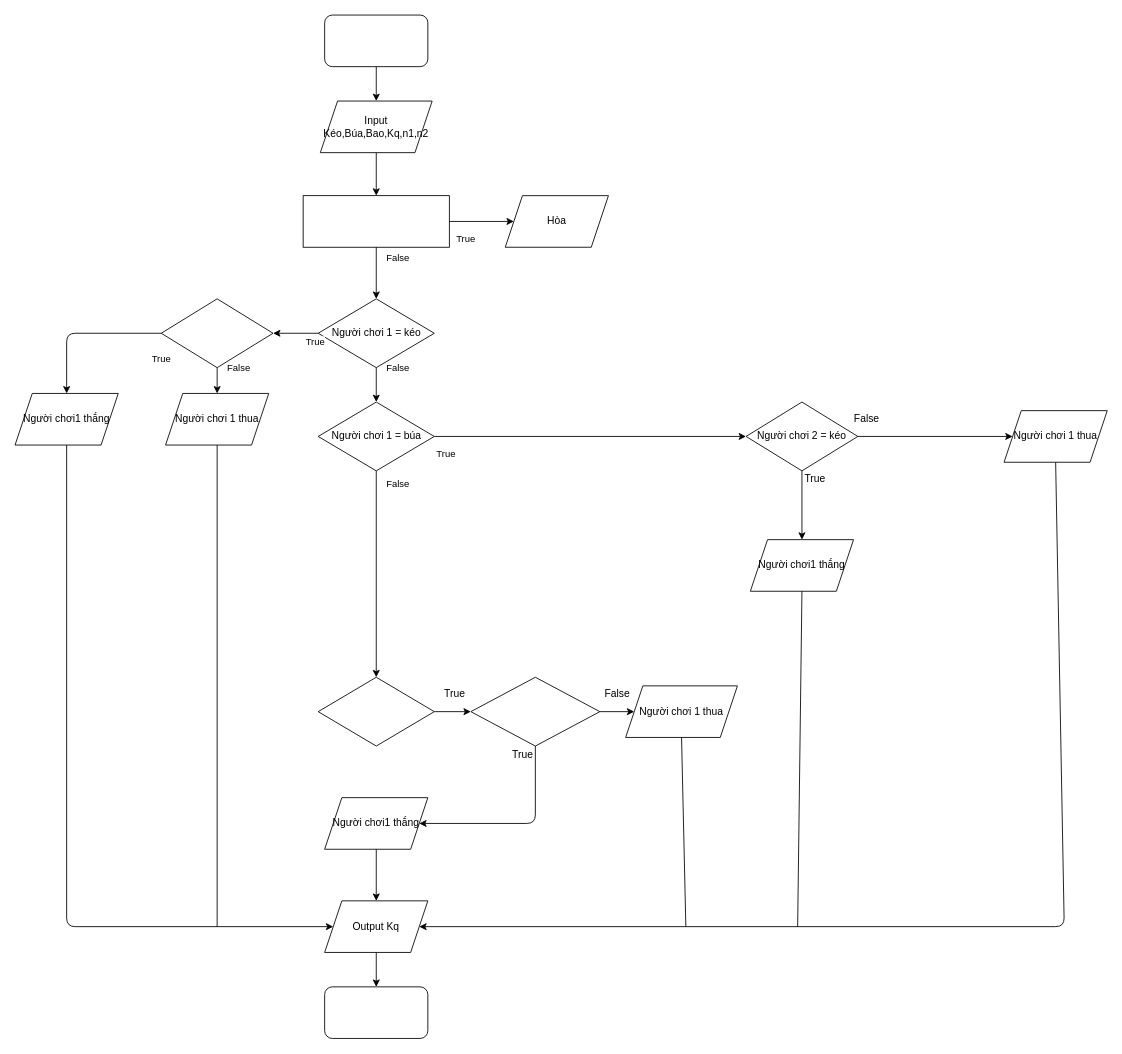
The diagram is 1122 pixels wide and 1054 high, and some of its shapes have lost their labels. The centre of each missing label's shape, as x and y in pixels:
"End" goes at (376,1012).
"Người chơi 1 = bao" goes at (375,711).
"Người chơi 1 = Người chơi 2" goes at (375,221).
"Người chơi 2 = bao" goes at (216,333).
"Người chơi 2 = búa" goes at (535,711).
"Start" goes at (376,40).
